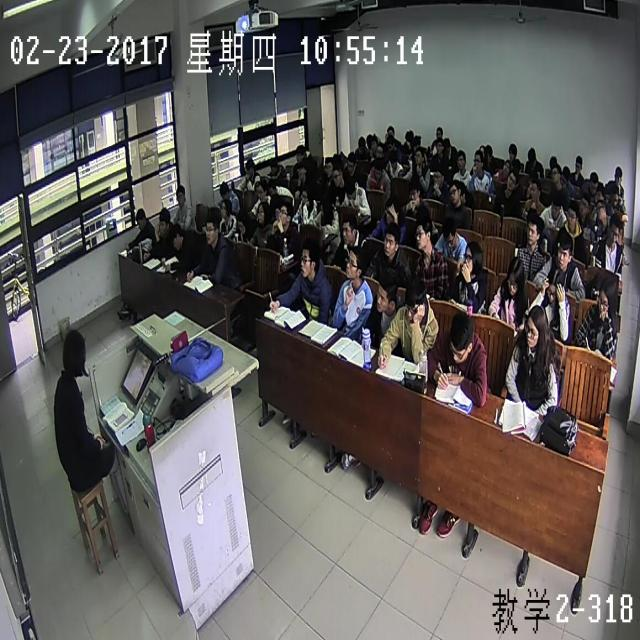person: (448, 310, 474, 364), (61, 328, 87, 379), (403, 274, 426, 326), (523, 306, 547, 352), (376, 269, 398, 314), (297, 239, 319, 281), (461, 236, 483, 278), (553, 230, 575, 270), (597, 275, 617, 319), (345, 246, 367, 284), (506, 255, 524, 297), (414, 218, 434, 255), (382, 223, 400, 259), (340, 214, 357, 246), (526, 215, 543, 246), (442, 212, 457, 247), (607, 213, 622, 246), (317, 192, 333, 222), (204, 216, 219, 246), (277, 202, 293, 229), (170, 222, 184, 252), (430, 164, 445, 192), (383, 197, 399, 223), (156, 208, 171, 235), (566, 200, 579, 229), (448, 178, 461, 205), (256, 200, 270, 225), (134, 206, 147, 230), (408, 182, 420, 208), (253, 178, 267, 200), (174, 184, 187, 207), (299, 184, 312, 207), (504, 169, 517, 192), (324, 157, 336, 181), (549, 194, 561, 218), (524, 143, 536, 167), (220, 197, 232, 220), (371, 157, 383, 180), (472, 149, 484, 172), (344, 175, 355, 200), (218, 179, 230, 201), (529, 178, 540, 202), (578, 192, 589, 216), (596, 199, 607, 222), (558, 164, 570, 185), (346, 151, 357, 173), (609, 184, 619, 208), (588, 170, 598, 194), (244, 157, 255, 178), (442, 133, 453, 154), (332, 164, 342, 187), (295, 143, 305, 165), (550, 165, 561, 185), (456, 149, 466, 170), (296, 160, 306, 180), (456, 181, 466, 201), (507, 141, 517, 161), (595, 184, 605, 204), (387, 149, 398, 167), (433, 138, 444, 156), (483, 143, 492, 164), (268, 157, 278, 175), (548, 152, 558, 170), (574, 152, 582, 174), (502, 157, 511, 176), (613, 167, 622, 186), (433, 124, 443, 141), (356, 135, 365, 153), (404, 128, 413, 146), (266, 178, 276, 194), (374, 141, 384, 157), (385, 134, 395, 150), (365, 132, 374, 149), (412, 133, 421, 150), (413, 148, 422, 165), (384, 124, 394, 138), (370, 135, 377, 149)
